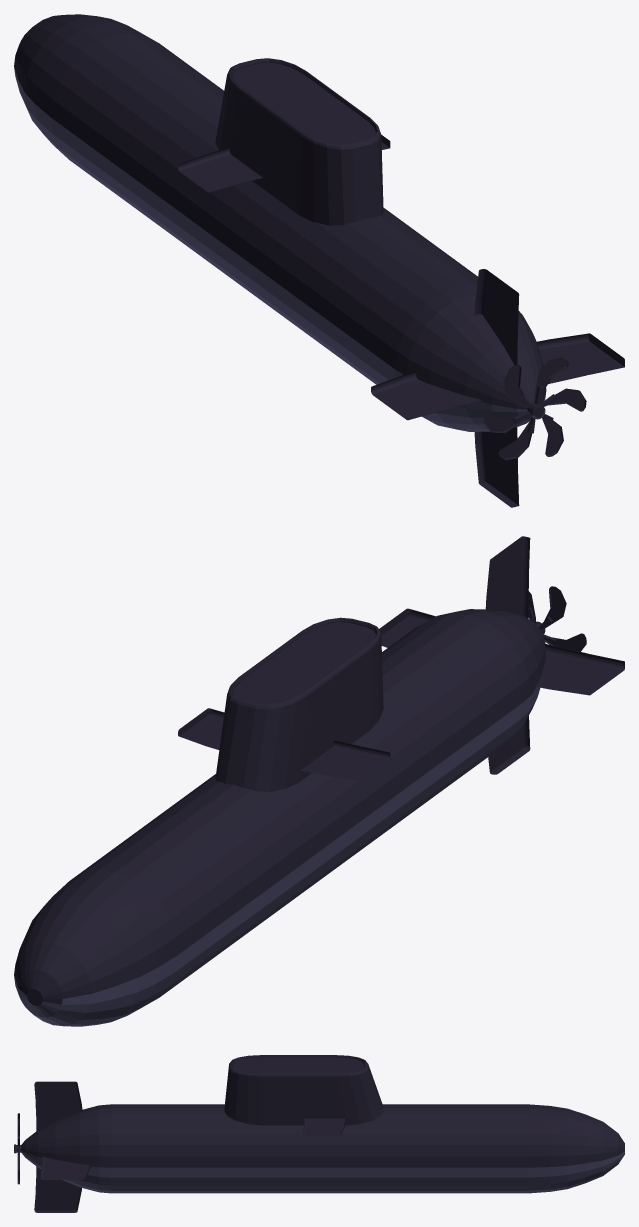
The model's file is uboat.glb.
3 views of the same model, one above another, from view 1: azimuth 30°, elevation 25°; view 2: azimuth 150°, elevation 25°; view 3: azimuth 270°, elevation 25° (orthographic). The views are drawn at different scales.
Visible parts, largest first — view 1: Cylinder, Cube.001, Plane.001, Plane, Plane.002, Plane.003; view 2: Cylinder, Cube.001, Plane.001, Plane, Plane.003, Plane.002; view 3: Cylinder, Cube.001, Plane, Plane.001, Plane.003.
Boxes of the visible parts, x1,y1,x2,y2 form: Cylinder: [14, 14, 546, 431]; Cube.001: [215, 58, 383, 225]; Plane.001: [371, 333, 624, 420]; Plane: [474, 269, 519, 507]; Plane.002: [483, 357, 586, 460]; Plane.003: [178, 135, 390, 192]; Cylinder: [14, 609, 545, 1026]; Cube.001: [215, 617, 383, 792]; Plane.001: [379, 608, 624, 695]; Plane: [485, 536, 530, 774]; Plane.003: [178, 708, 390, 780]; Plane.002: [528, 586, 586, 651]; Cylinder: [14, 1104, 624, 1193]; Cube.001: [224, 1055, 383, 1125]; Plane: [34, 1081, 82, 1212]; Plane.001: [40, 1155, 91, 1179]; Plane.003: [303, 1117, 346, 1135].
Bounding box in the file's own units: 3.41 × 3.67 × 13.68.
